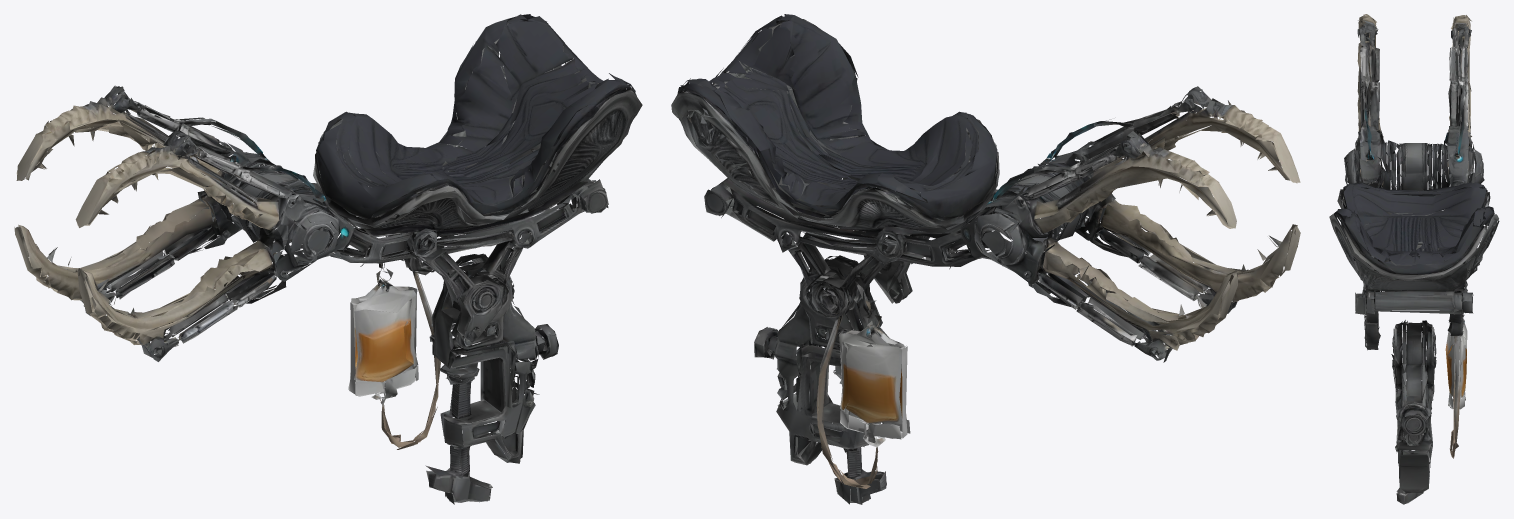
The model's file is life_bone_clamp_rig.glb.
The picture shows the model from 3 angles, left to right: view 1: azimuth 30°, elevation 25°; view 2: azimuth 150°, elevation 25°; view 3: azimuth 270°, elevation 25°; orthographic projection. The views are drawn at different scales.
Visible parts, largest first — view 1: node_0; view 2: node_0; view 3: node_0.
Boxes of the visible parts, x1,y1,x2,y2 form: node_0: (14,14,642,504); node_0: (671,14,1300,504); node_0: (1329,14,1499,504).
Size of the model in its own units: 1.02 by 0.8025 by 0.3482.
1 material, 1 textured.
